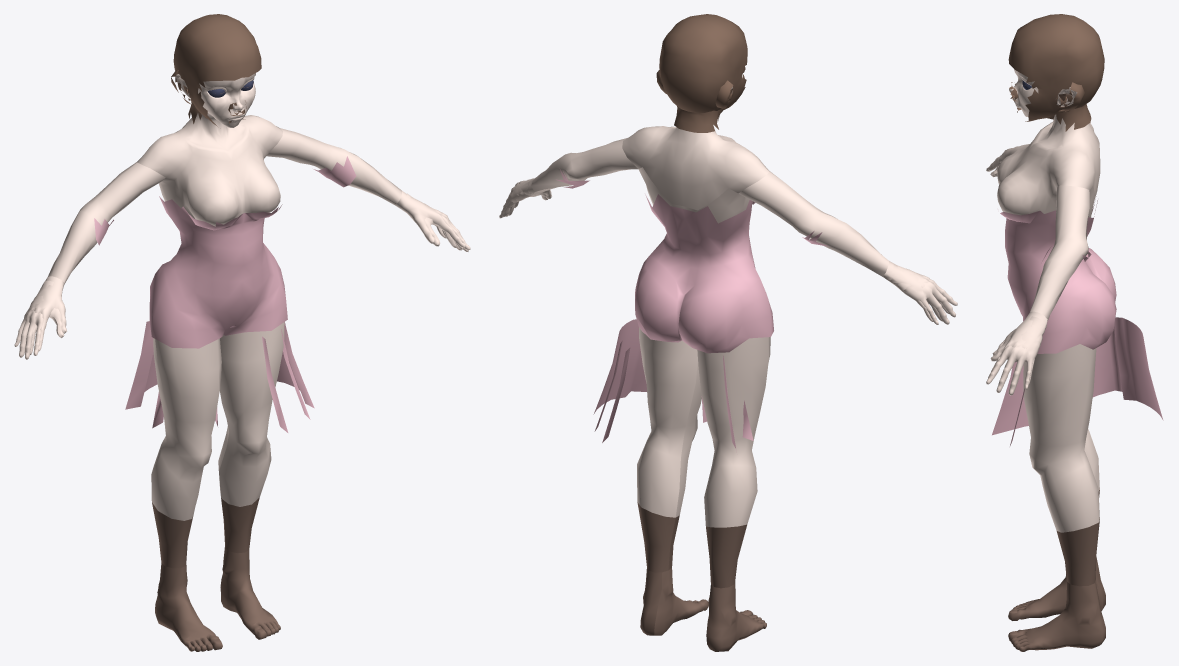
File: waifu2_smooth.glb
3 renders of one model, left to right at view 1: azimuth 30°, elevation 25°; view 2: azimuth 150°, elevation 25°; view 3: azimuth 270°, elevation 25°, orthographic.
Visible parts, largest first — view 1: body_skin, dress_top, body_boot, hair, skirt, Anime_Female_A_Hand01.001_v1; view 2: body_skin, dress_top, body_boot, hair, skirt, Anime_Female_A_Hand01.001_v1; view 3: body_skin, dress_top, hair, body_boot, skirt, Anime_Female_A_Hand01_v1.
Part boxes in pixels (<box>): body_skin: <box>25,73,465,520</box>; dress_top: <box>94,156,356,348</box>; body_boot: <box>152,497,280,651</box>; hair: <box>171,14,261,126</box>; skirt: <box>125,321,314,432</box>; Anime_Female_A_Hand01.001_v1: <box>14,280,64,359</box>; body_skin: <box>502,87,949,527</box>; dress_top: <box>556,168,829,353</box>; body_boot: <box>637,502,766,651</box>; hair: <box>656,14,747,132</box>; skirt: <box>593,319,753,452</box>; Anime_Female_A_Hand01.001_v1: <box>888,264,957,324</box>; body_skin: <box>988,69,1100,532</box>; dress_top: <box>1000,196,1116,353</box>; hair: <box>1008,14,1104,131</box>; body_boot: <box>1008,490,1105,651</box>; skirt: <box>992,317,1163,445</box>; Anime_Female_A_Hand01_v1: <box>986,316,1045,395</box>.
Size of the model in its own units: 1.22 by 1.6 by 0.4232.
